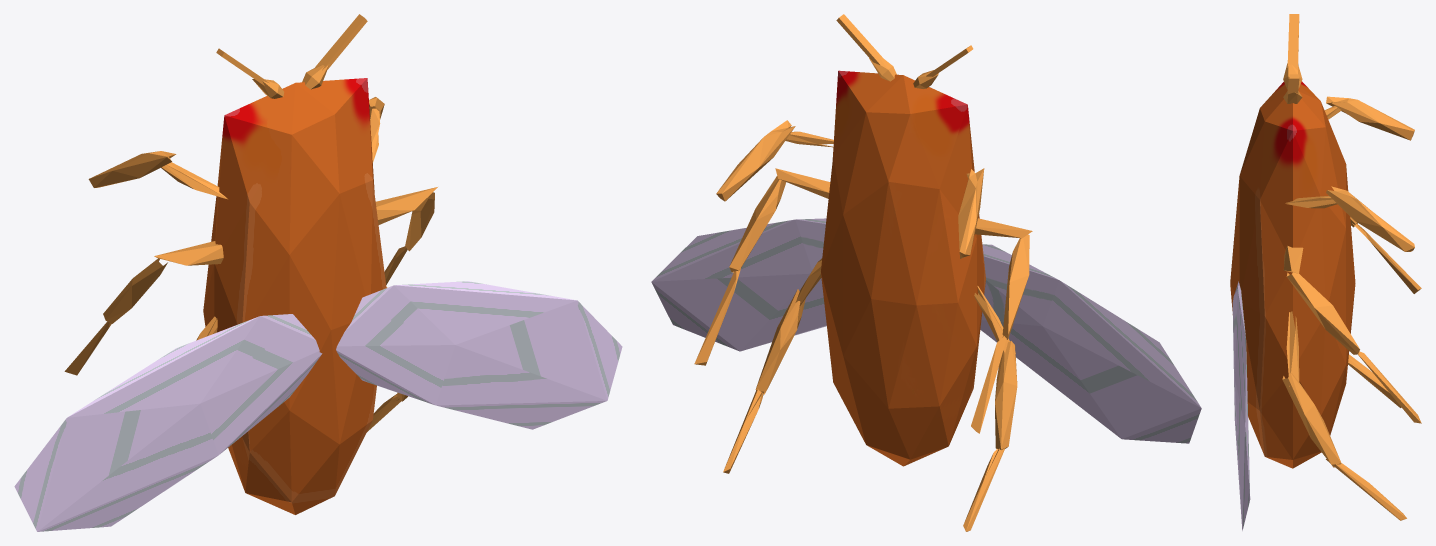
Rendered from fruit_fly.glb.
3 renders of one model, left to right at view 1: azimuth 30°, elevation 25°; view 2: azimuth 150°, elevation 25°; view 3: azimuth 270°, elevation 25°, orthographic. The views are drawn at different scales.
Visible parts, largest first — view 1: wings, body, legs, legs.002, eyes; view 2: body, wings, legs, legs.001, legs.002, eyes; view 3: body, legs.001, legs.002, legs, wings, eyes.
Part boxes in pixels (bbox=[...]): wings: bbox=[14, 281, 622, 531]; body: bbox=[203, 78, 386, 514]; legs: bbox=[64, 187, 437, 375]; legs.002: bbox=[88, 97, 384, 199]; eyes: bbox=[216, 14, 367, 98]; body: bbox=[821, 70, 985, 466]; wings: bbox=[651, 218, 1201, 443]; legs: bbox=[694, 168, 1032, 433]; legs.001: bbox=[723, 258, 1017, 531]; legs.002: bbox=[716, 120, 984, 258]; eyes: bbox=[836, 14, 973, 88]; body: bbox=[1230, 81, 1355, 468]; legs.001: bbox=[1282, 311, 1406, 520]; legs.002: bbox=[1285, 96, 1414, 251]; legs: bbox=[1283, 217, 1421, 423]; wings: bbox=[1232, 281, 1250, 530]; eyes: bbox=[1283, 14, 1302, 103].
Size of the model in its own units: 4.33 by 3.28 by 1.35.
Materials: 3 (2 with a texture image).
